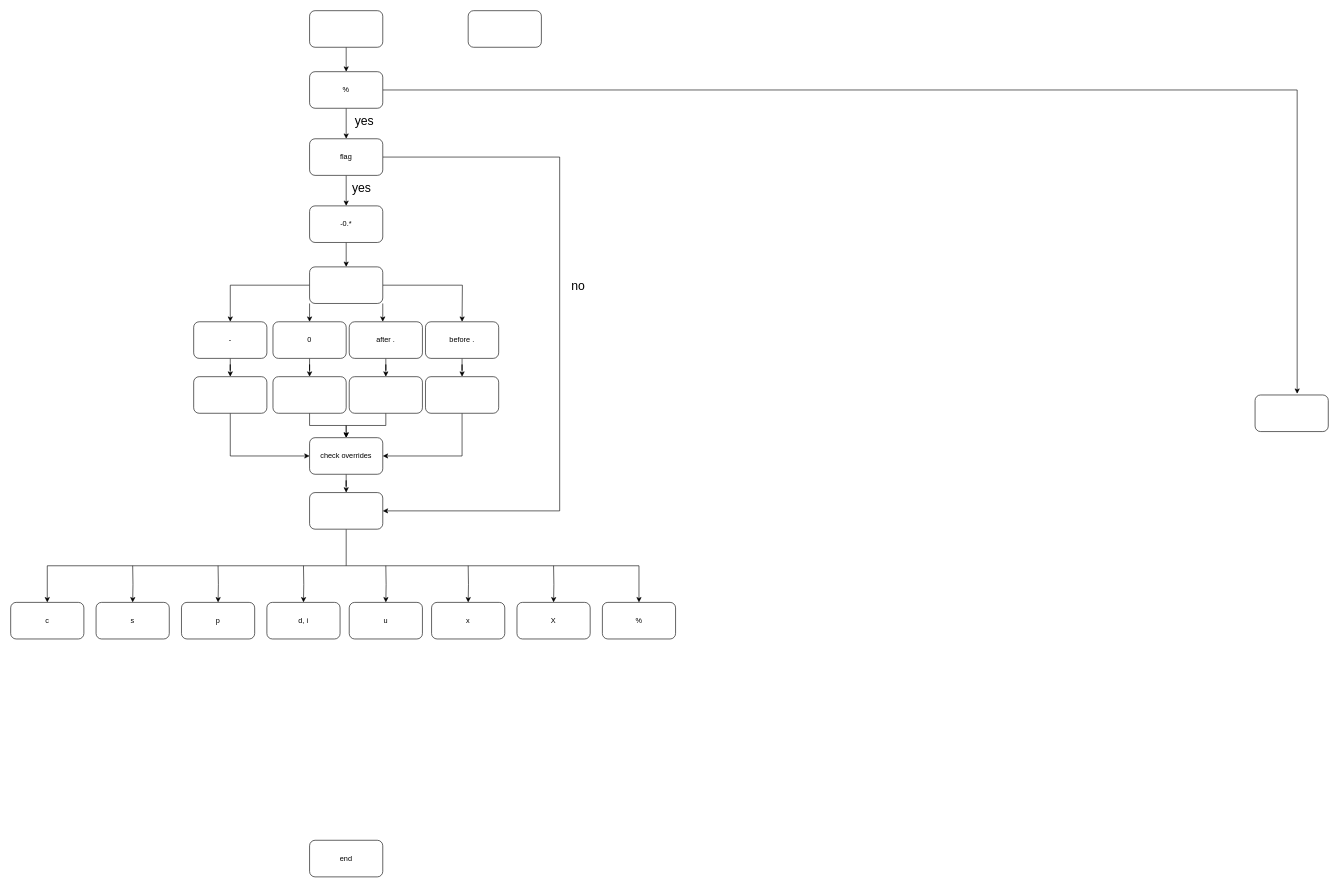
Image size: 1339x888. Some labels were removed from this diagram. The centre of each missing label's shape, as x and y in pixels:
argv[0]: (346,28)
cspdiuxX%: (346,510)
fill with 0s on the left: (309,394)
fill with 0s to match minimum numbers to appear: (385,394)
fill with blanks on the left: (462,394)
fill with blanks on the right: (230,394)
get value of amount to be filled: (346,284)
write stdout: (1291,413)
